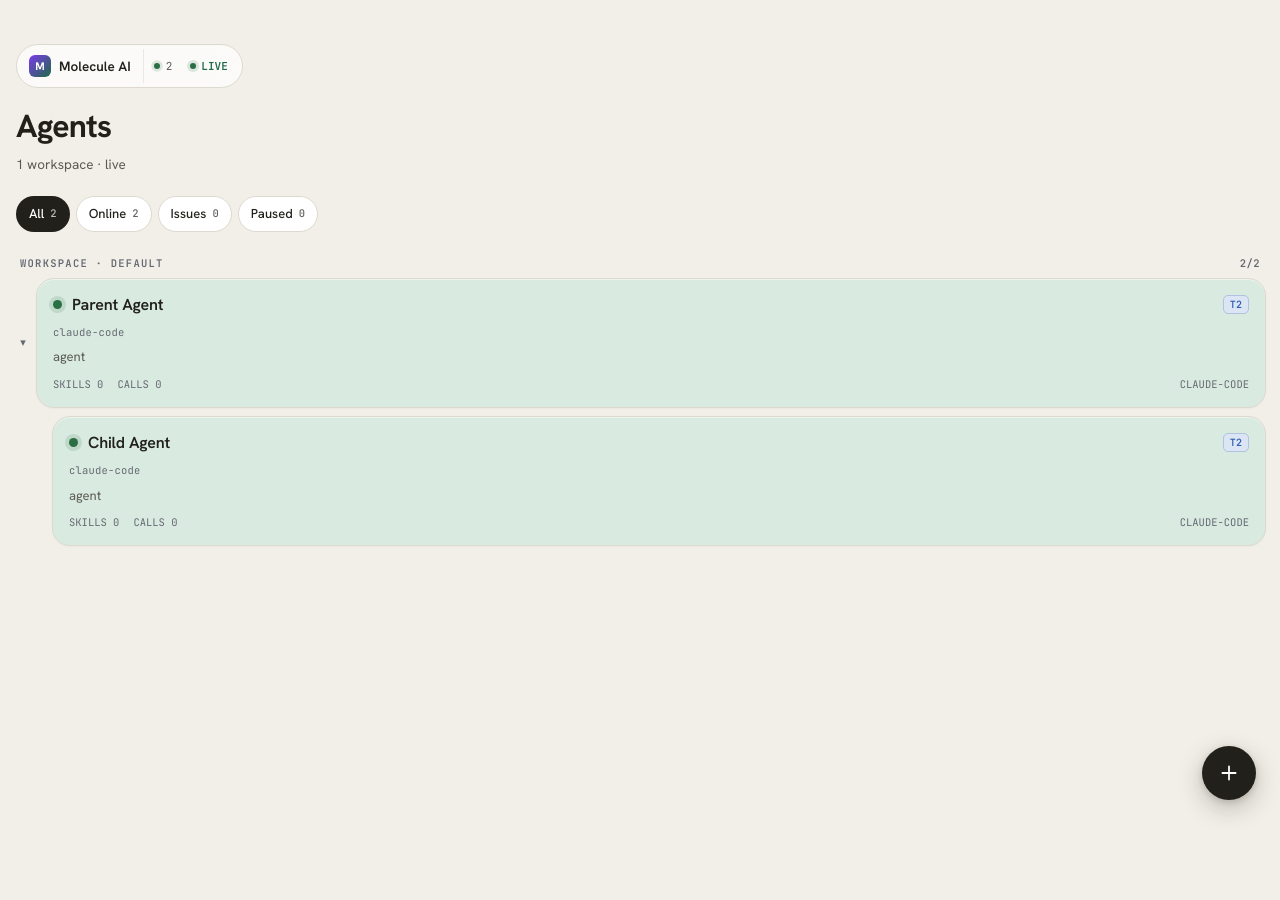
Scenario: MobileHome — agent hierarchy tree (core#2697 Phase 2) › renders parent + child as tree rows; collapsing the parent hides the child
Expected: the number of elements with test id "agent-tree-row" is 2, left=14, top=278, right=1266, bottom=408; left=14, top=416, right=1266, bottom=546
Expected: the text "Child Agent" is shown, left=88, top=432, right=170, bottom=453
Step 1. Click the button named "Collapse" → point(23, 343), box left=14, top=334, right=32, bottom=352
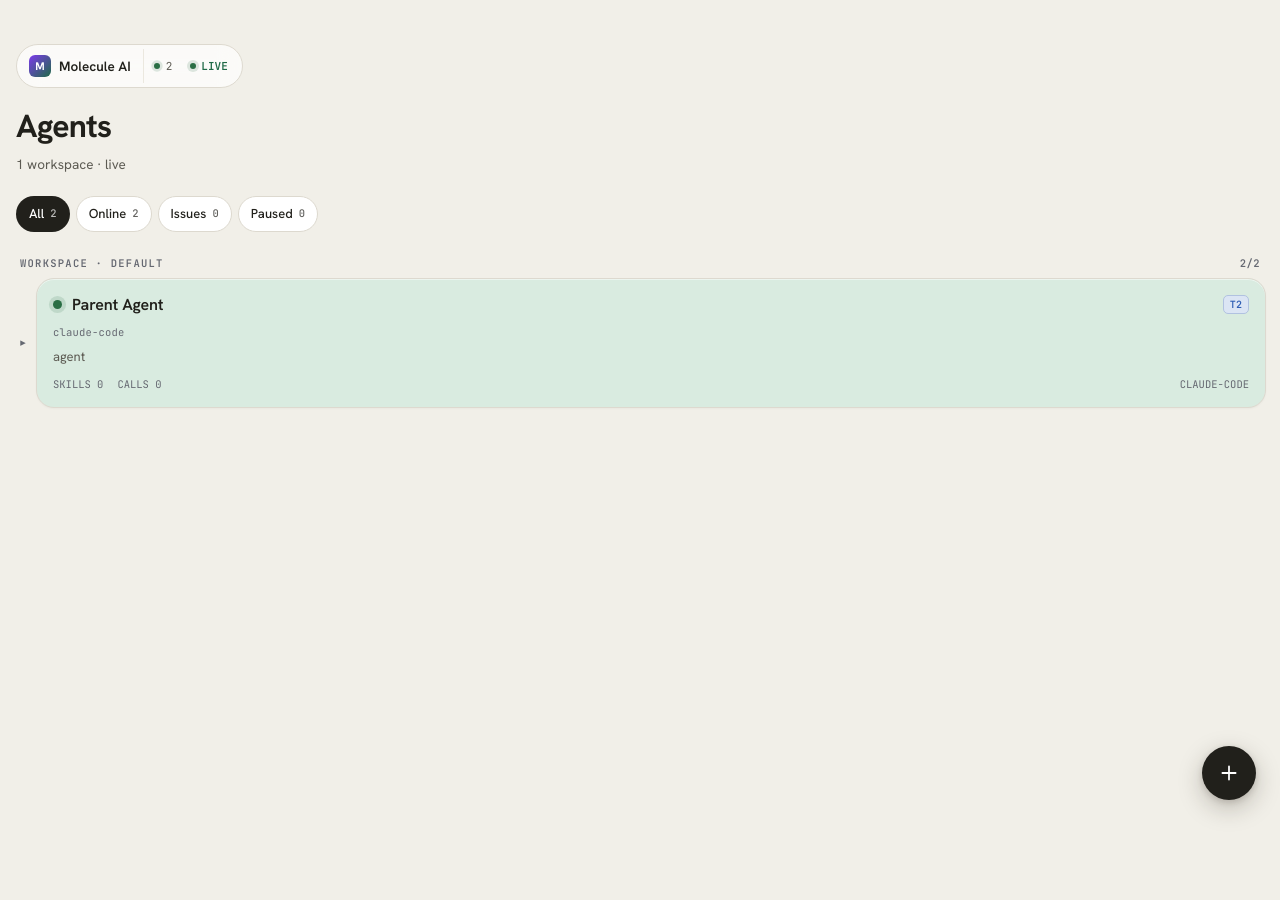
Now the button "Child Agent" is gone
